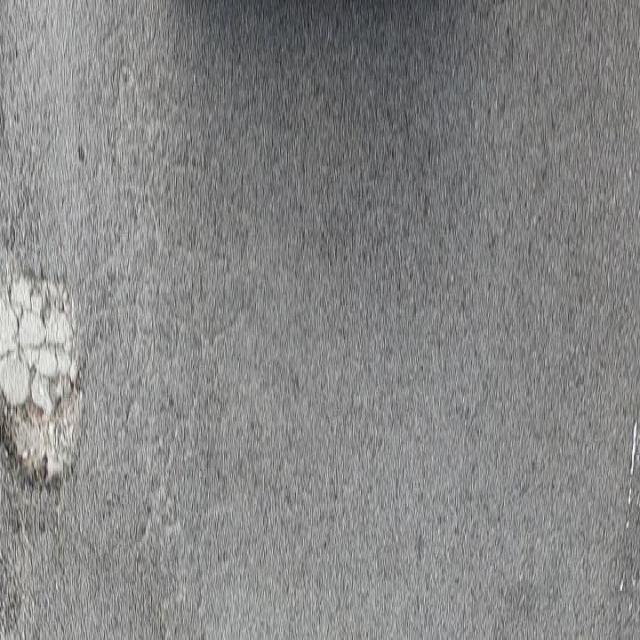potholes: (0, 256, 89, 503)
